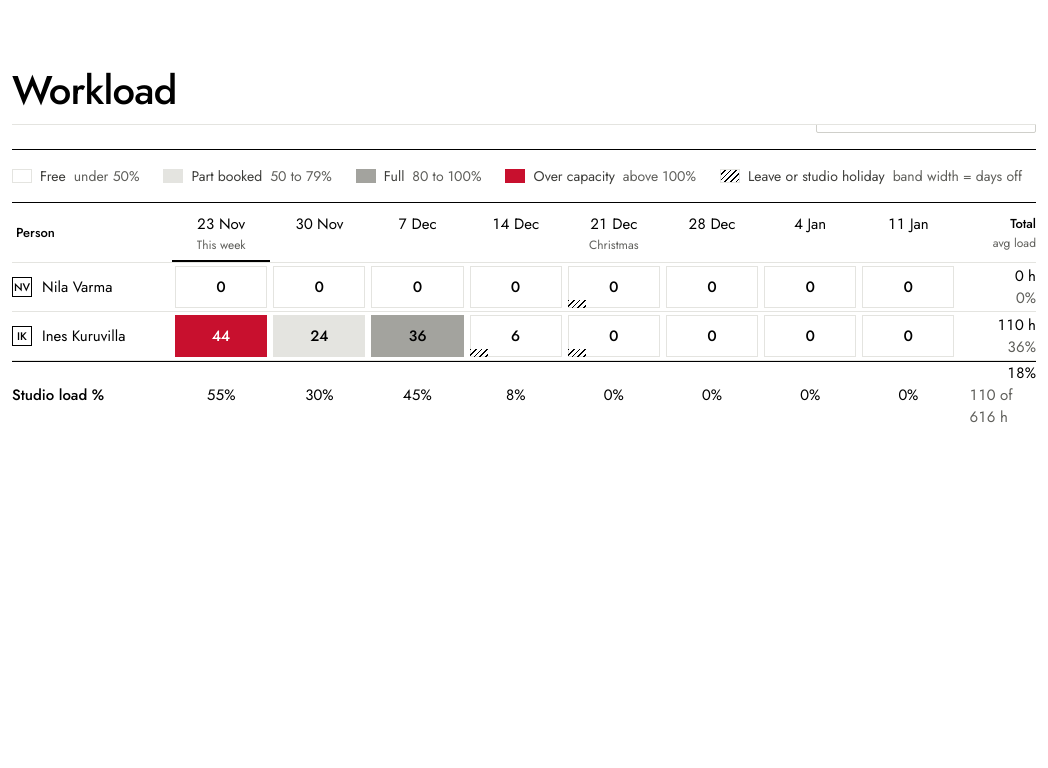
Scenario: Workload heatmap in live mode › opens the week detail from a cell, with the allocations, "On leave", the other hours and Open in planner
Expected: the table named "Booked hours by person and week" is shown, [12,202,1036,428]
Click the button named "Ines Kuruvilla, week of 23 Nov" at (221, 336), box [175,315,267,357]
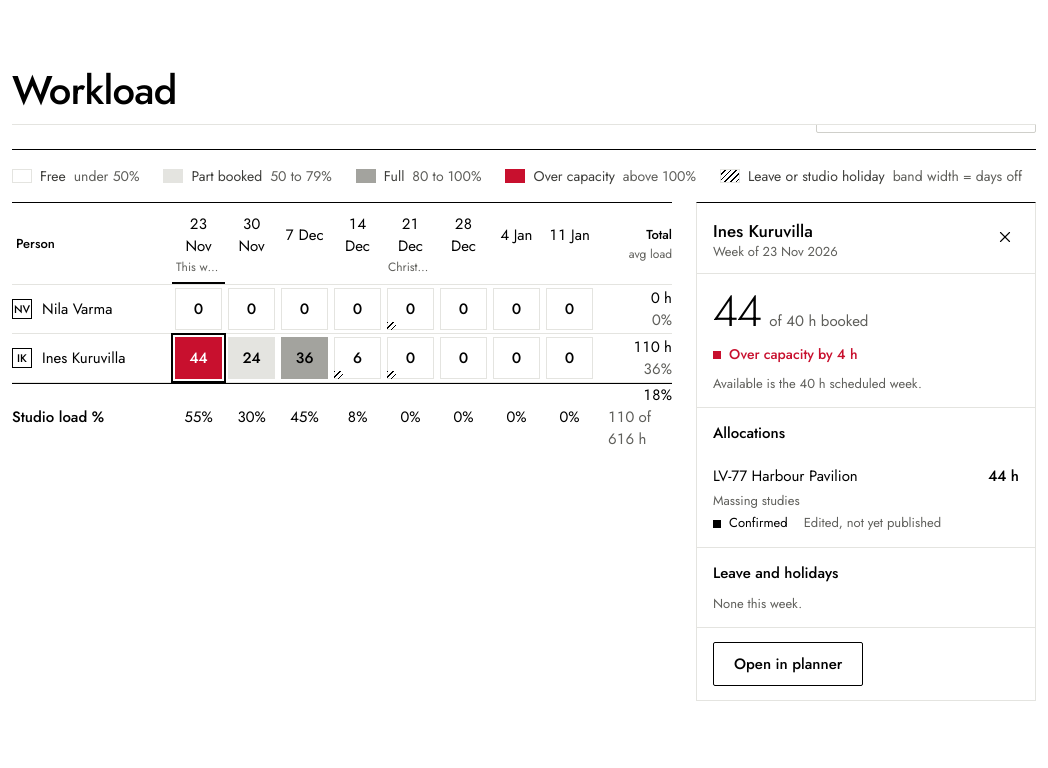
Result: the text "Over capacity by 4 h" is shown at [713,344,858,364]
Result: the text "LV-77 Harbour Pavilion" is shown at [713,465,858,488]
Result: the text "Edited, not yet published" is shown at [804,514,941,533]
Click the button named "Ines Kuruvilla, week of 14 Dec" at (358, 358), box [334,337,381,379]
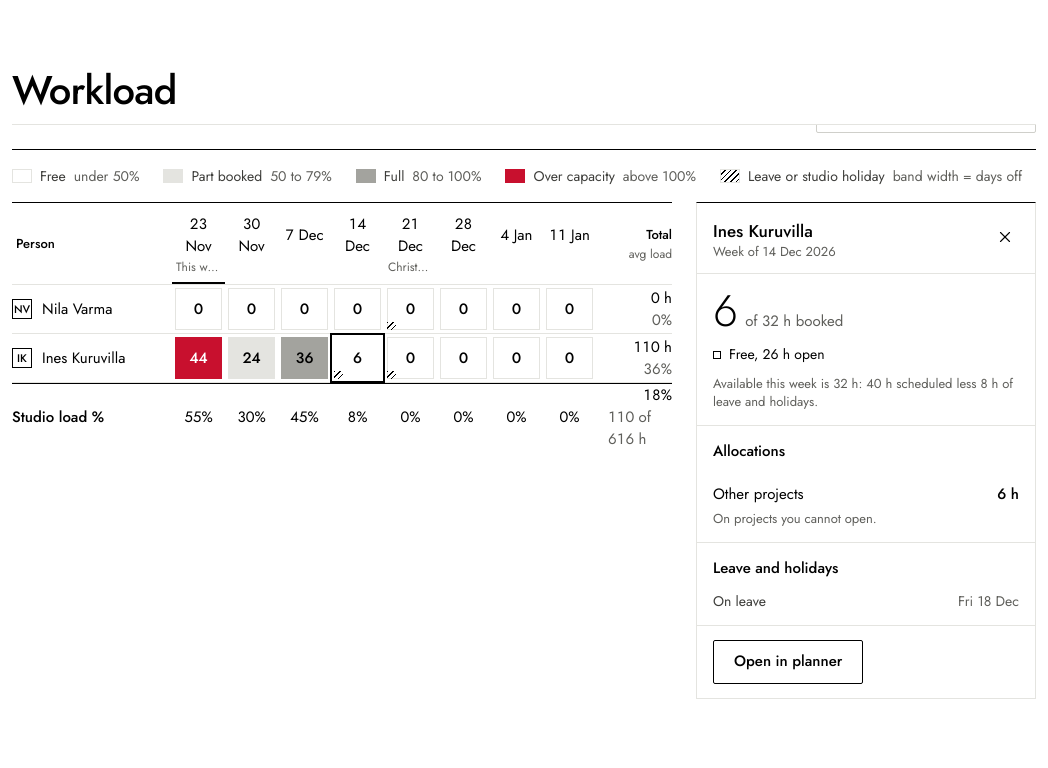
Result: the text "On leave" is shown at [713,590,766,611]
Result: the text "Fri 18 Dec" is shown at [958,590,1019,611]
Result: the text "Other projects" is shown at [713,483,804,506]
Click the button named "Close week detail" at (1005, 237), box [987,219,1023,255]
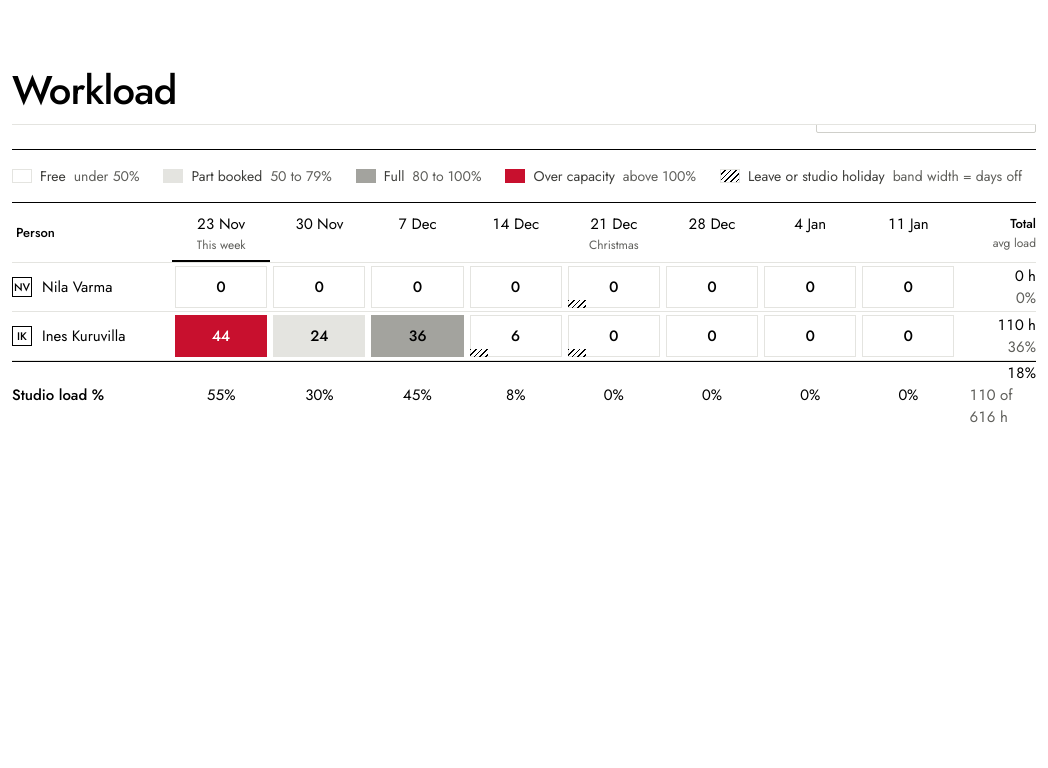
Click the button named "Nila Varma, week of 21 Dec" at (614, 287), box [568,266,660,308]
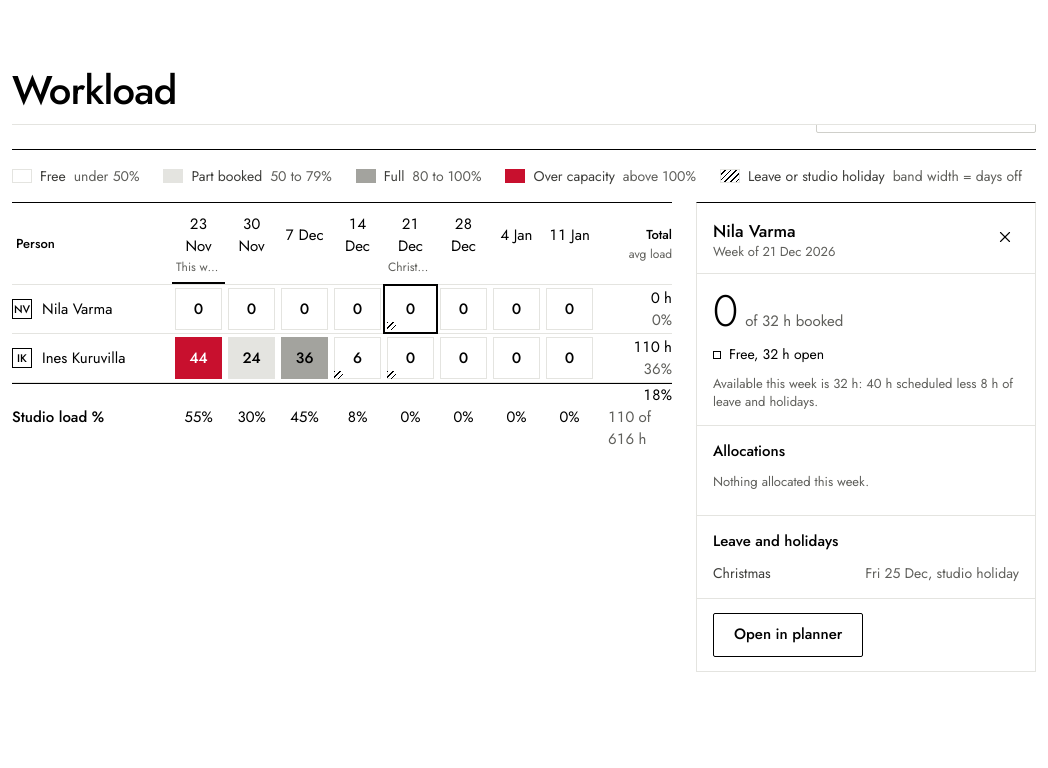
Result: the text "Fri 25 Dec, studio holiday" is shown at [865,563,1019,584]
Click the button "Open in planner" at (788, 635), box [713,613,863,657]
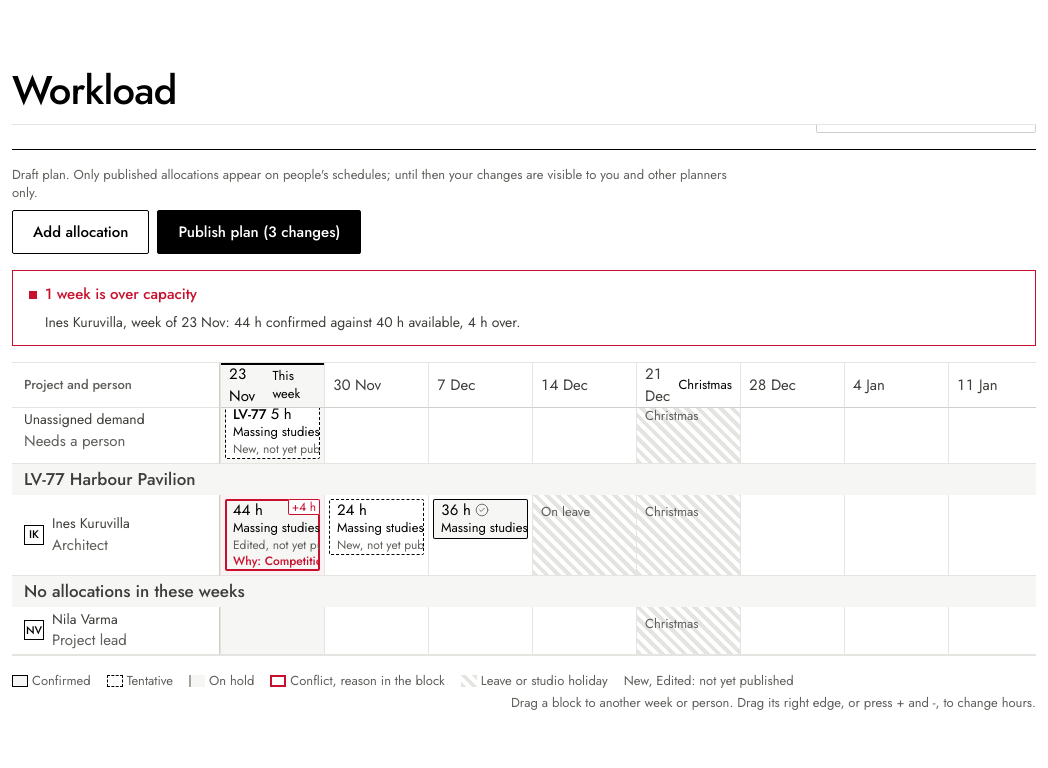
Result: the table named "Resource planner" is shown at [12,362,1036,656]
